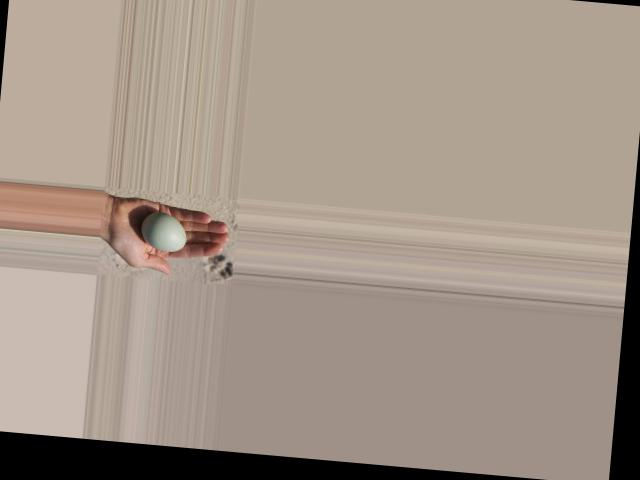egg: (140, 210, 188, 252)
